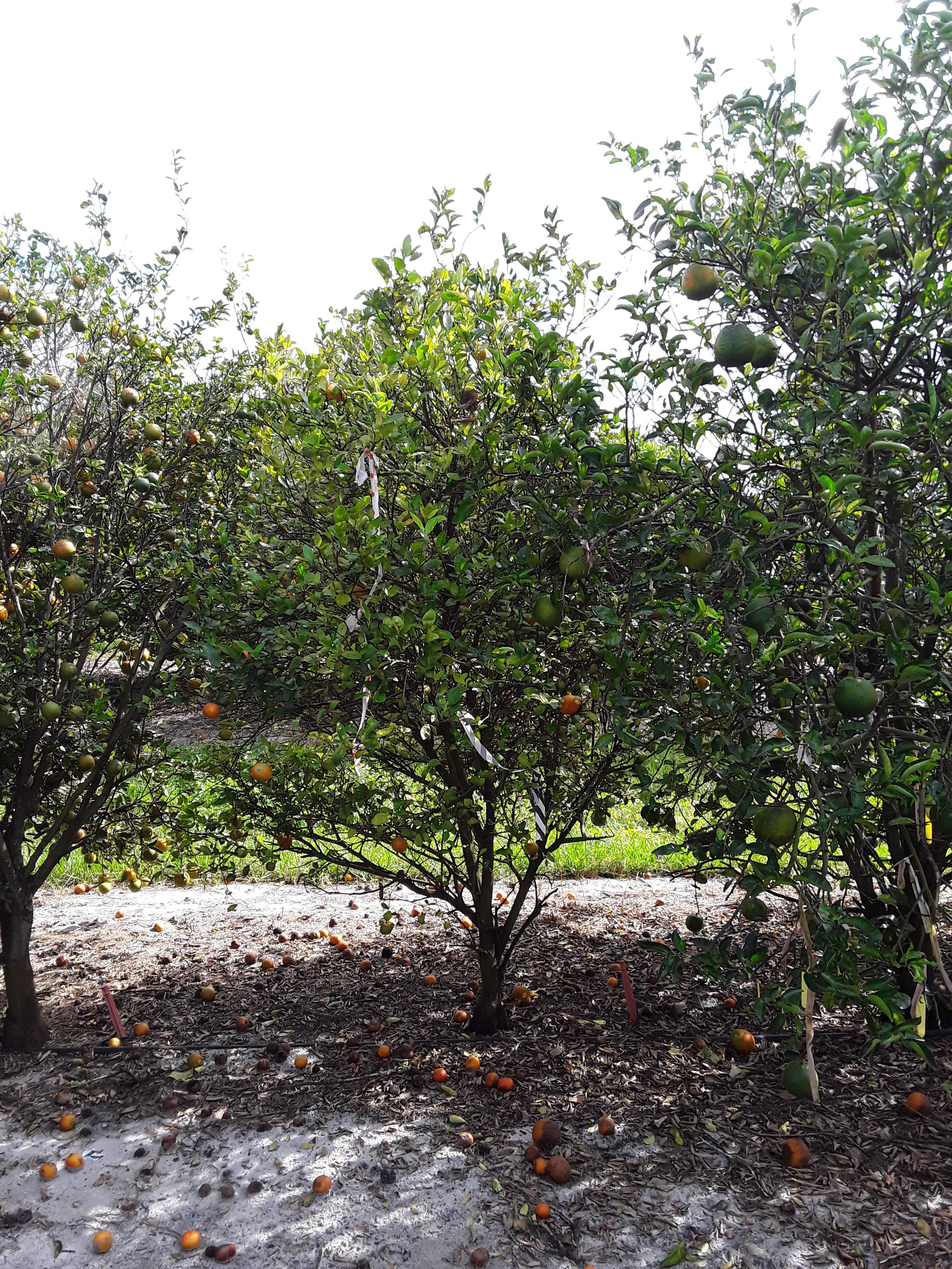fruit_on_ground: (752, 802, 798, 847), (834, 673, 876, 720), (740, 596, 786, 637), (714, 324, 755, 365), (746, 330, 780, 373), (782, 1061, 817, 1102), (683, 259, 718, 299), (558, 544, 593, 581), (874, 225, 909, 262), (874, 609, 911, 640), (687, 540, 715, 578), (531, 595, 560, 629), (682, 356, 714, 385), (320, 381, 351, 408), (739, 897, 769, 922), (558, 686, 581, 718), (225, 640, 254, 664), (59, 571, 87, 595), (803, 551, 829, 575), (456, 386, 480, 411), (254, 758, 275, 783), (40, 372, 63, 393), (145, 418, 165, 442), (277, 568, 301, 588), (345, 581, 369, 601), (25, 305, 50, 324), (68, 313, 90, 334), (683, 909, 704, 931), (79, 752, 99, 774), (469, 339, 489, 361), (79, 476, 98, 499), (12, 345, 31, 368), (792, 596, 815, 615), (40, 701, 63, 720), (117, 388, 141, 406), (85, 597, 106, 617), (53, 542, 71, 565), (105, 758, 125, 778), (102, 609, 120, 631), (68, 272, 88, 291), (59, 661, 78, 681), (590, 806, 608, 827), (201, 701, 218, 723), (273, 833, 295, 850), (65, 704, 86, 721), (693, 674, 712, 692), (173, 868, 189, 889), (78, 352, 94, 372), (130, 647, 152, 661), (127, 329, 145, 346), (182, 427, 200, 444), (62, 440, 78, 459), (527, 841, 543, 860), (33, 480, 53, 495), (2, 603, 17, 622), (393, 834, 408, 853), (25, 325, 44, 340), (144, 454, 161, 470), (121, 867, 137, 884), (124, 749, 142, 764), (10, 545, 24, 564), (131, 478, 150, 492), (126, 425, 141, 442), (162, 527, 177, 544), (136, 503, 152, 518), (120, 660, 136, 675), (138, 825, 154, 840), (77, 830, 91, 847), (186, 861, 200, 878), (107, 323, 121, 340), (81, 852, 98, 866), (141, 848, 158, 862), (0, 283, 14, 300), (188, 676, 203, 691), (154, 838, 168, 854), (144, 471, 160, 485), (217, 728, 234, 741), (7, 583, 24, 596), (21, 577, 36, 591), (205, 563, 220, 577), (6, 546, 19, 562), (229, 828, 244, 841), (233, 845, 247, 858), (87, 533, 100, 547), (97, 873, 112, 885), (117, 639, 131, 651), (28, 453, 42, 465), (14, 426, 28, 438), (246, 410, 259, 422), (237, 407, 249, 419), (99, 882, 111, 894), (264, 860, 277, 871), (130, 880, 141, 892), (138, 875, 149, 887), (89, 548, 101, 558)
fruit_on_tree: (782, 1138, 812, 1176), (310, 1171, 335, 1202), (903, 1088, 929, 1115), (735, 1026, 760, 1054), (537, 1123, 563, 1149), (551, 1159, 575, 1186), (178, 1227, 203, 1252), (596, 1113, 617, 1139), (212, 1240, 234, 1264), (514, 982, 535, 1006), (91, 1226, 112, 1250), (93, 1234, 114, 1257), (472, 1245, 493, 1268), (68, 1154, 89, 1176), (693, 1036, 712, 1058), (457, 1129, 476, 1150), (461, 1133, 480, 1154), (67, 1149, 86, 1170), (918, 1216, 937, 1237), (59, 1111, 77, 1133), (38, 1169, 56, 1191), (532, 1200, 551, 1220), (197, 983, 215, 1003), (42, 1165, 59, 1186), (464, 1055, 481, 1075), (919, 1223, 936, 1243), (483, 1069, 500, 1089), (368, 1018, 385, 1037), (498, 1075, 514, 1095), (375, 1043, 391, 1061), (432, 1067, 448, 1085), (186, 1052, 201, 1070), (523, 1145, 541, 1160), (234, 1018, 249, 1035), (110, 1035, 125, 1051), (494, 891, 508, 908), (423, 975, 437, 992), (133, 1025, 147, 1042), (295, 1054, 309, 1071), (455, 1008, 470, 1023), (261, 958, 275, 973), (379, 946, 394, 960), (534, 1157, 546, 1174), (357, 958, 372, 971), (460, 989, 476, 1001), (282, 954, 295, 967), (723, 997, 736, 1009), (347, 1051, 360, 1063), (75, 883, 86, 897), (410, 907, 424, 918), (341, 949, 356, 959), (607, 963, 622, 973), (245, 953, 257, 965), (55, 955, 68, 966), (336, 940, 349, 951), (117, 908, 128, 920), (460, 918, 472, 929), (331, 933, 342, 945), (400, 956, 411, 967), (278, 932, 289, 943), (291, 931, 303, 941), (154, 921, 164, 932), (309, 930, 320, 940), (656, 897, 666, 908), (468, 980, 478, 990), (318, 928, 329, 937), (85, 883, 95, 892), (607, 978, 617, 987), (115, 910, 123, 921), (567, 892, 576, 901), (343, 874, 353, 882), (395, 954, 402, 962), (351, 902, 359, 909)
